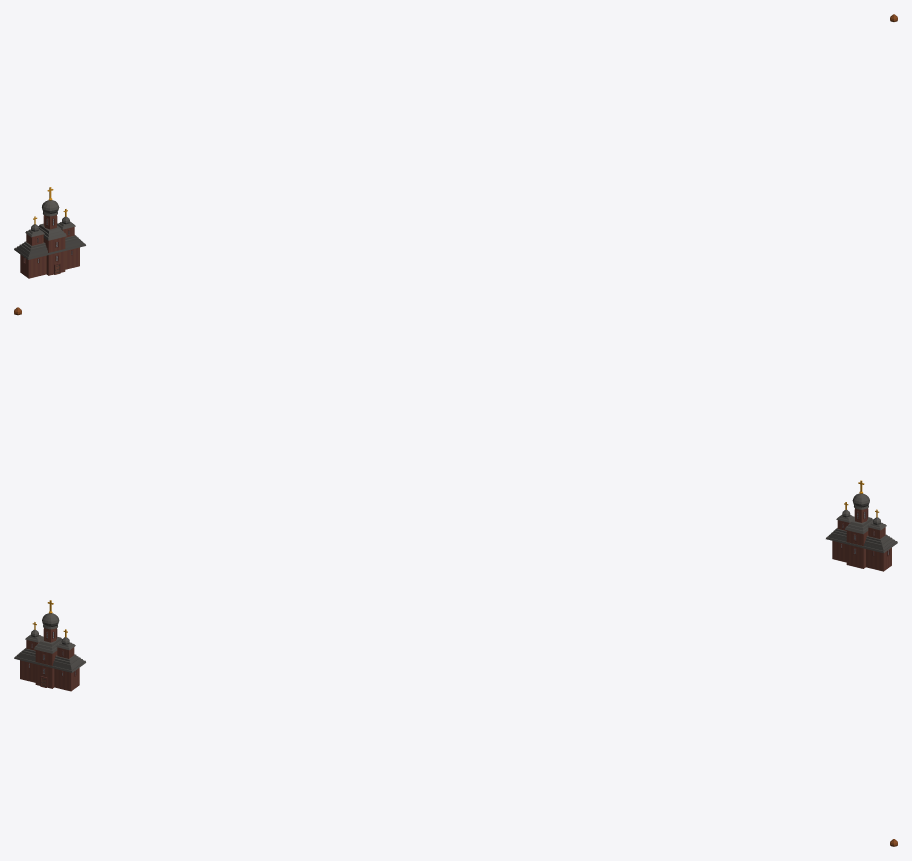
Rendered from church_high.fbx.
3 views of the same model, one above another, from view 1: azimuth 30°, elevation 25°; view 2: azimuth 150°, elevation 25°; view 3: azimuth 330°, elevation 25° (orthographic).
Parts seen in each view (by area): view 1: church; view 2: church; view 3: church.
Boxes of the visible parts, <box> form: church: <box>14,14,897,278</box>; church: <box>14,307,897,571</box>; church: <box>14,600,897,846</box>.
Bounding box in the file's own units: 7861 × 700 × 228.
